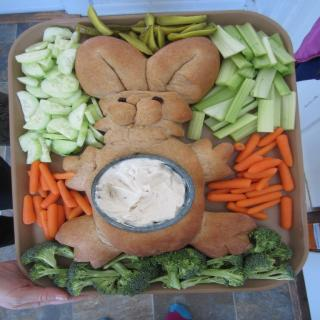Broccoli: (21, 228, 298, 297)
Carrot: (207, 127, 294, 230), (29, 162, 94, 242), (22, 194, 32, 224)
